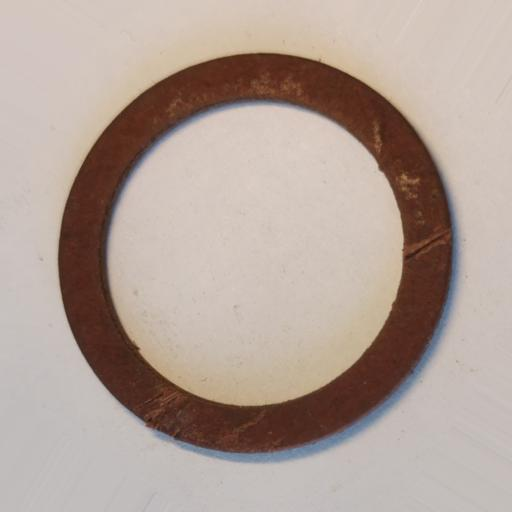defect: (138, 382, 296, 449), (402, 229, 451, 260)
